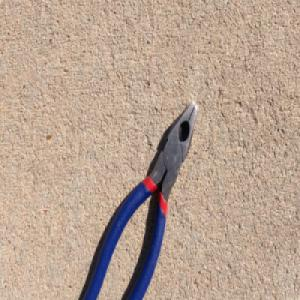Pliers: (80, 97, 200, 300)
